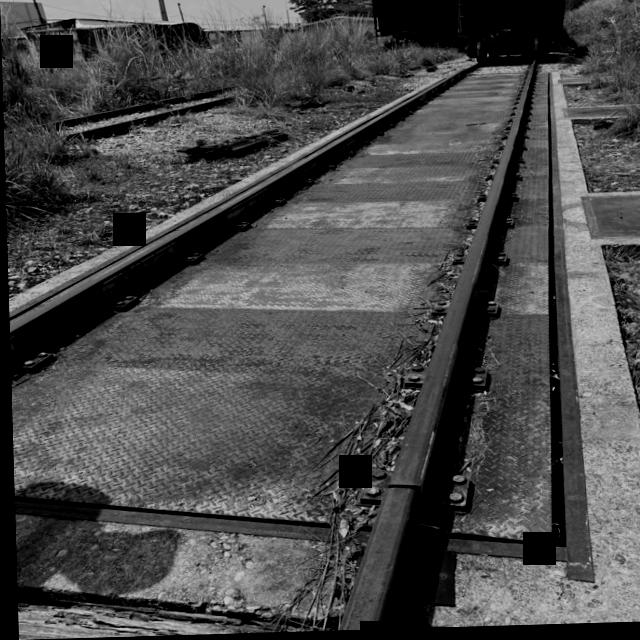gondola: (452, 0, 578, 66)
